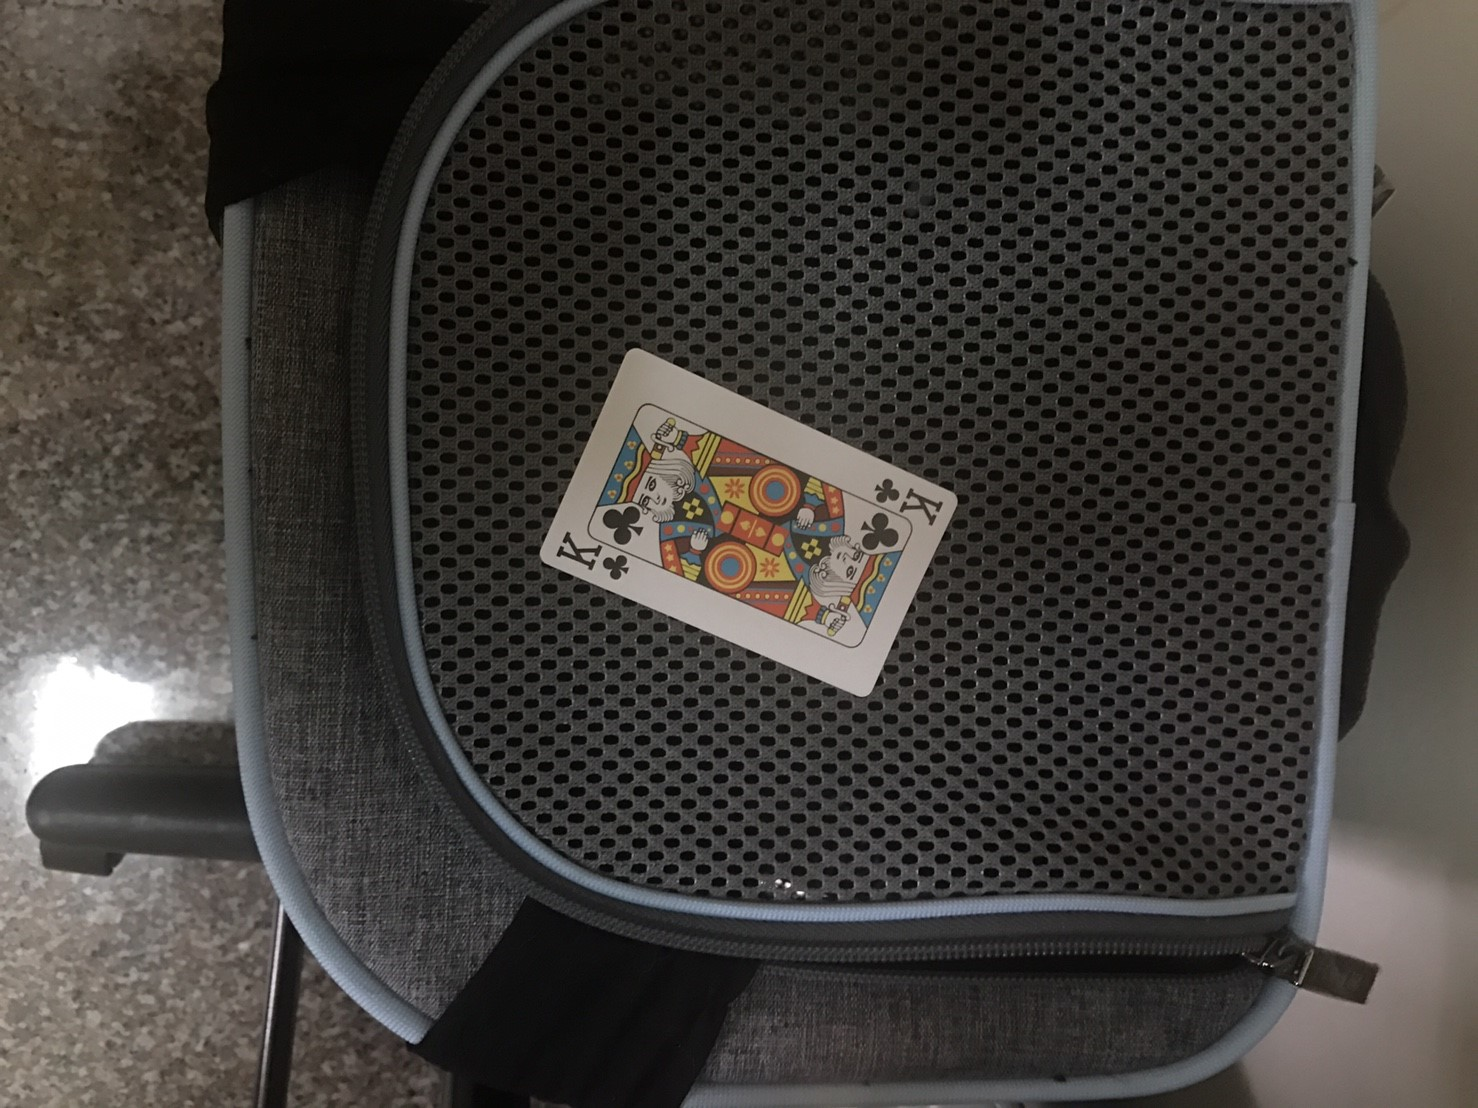clubs: (601, 507, 651, 552), (852, 511, 905, 551), (866, 473, 900, 509), (605, 551, 630, 583)
